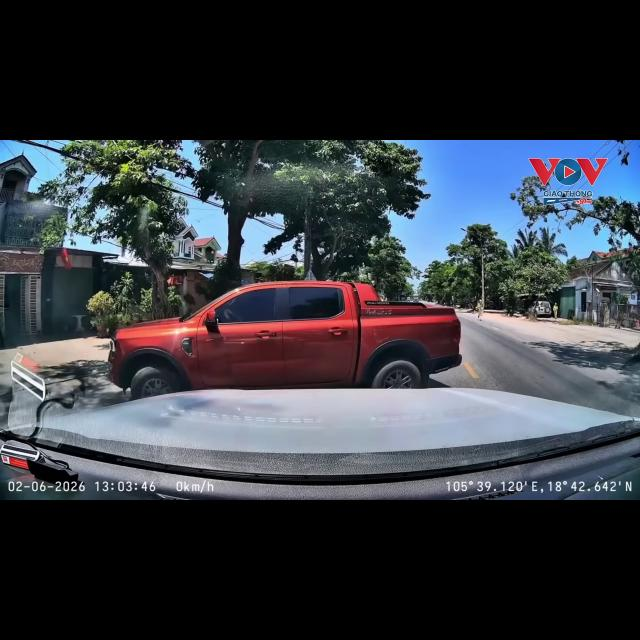car: (109, 281, 461, 398), (528, 301, 552, 317)
